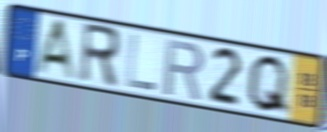2: (207, 46, 246, 112)
A: (32, 17, 80, 84)
L: (125, 32, 157, 94)
Q: (244, 52, 291, 118)
R: (76, 21, 122, 91), (162, 36, 207, 103)
